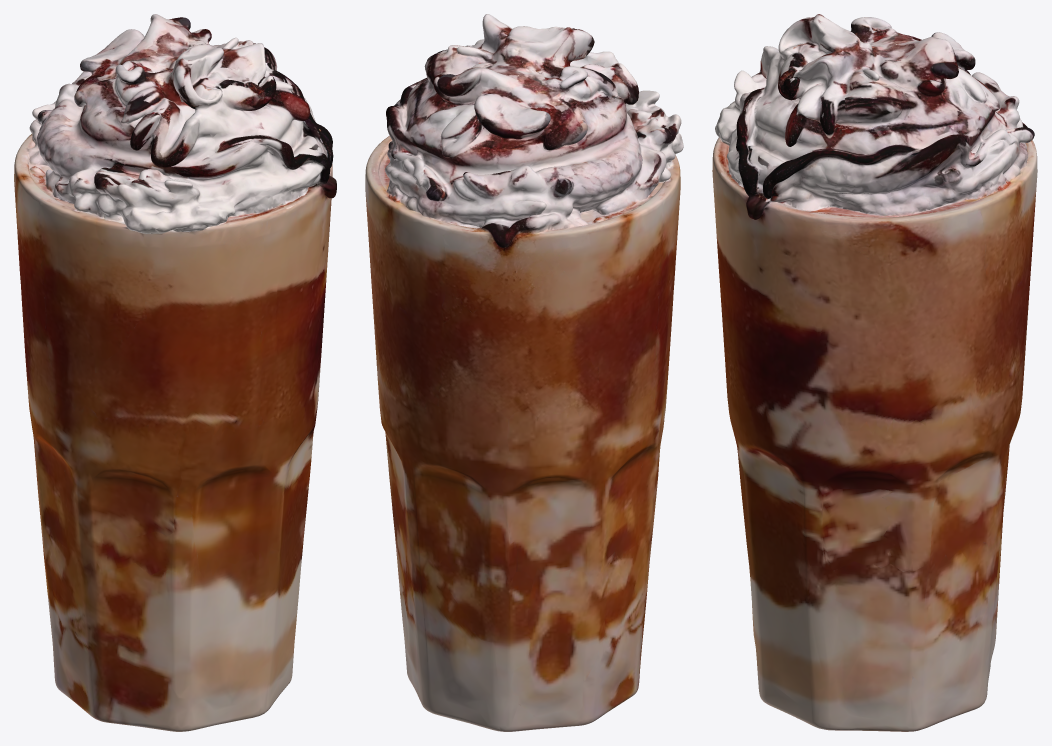
File: iced-mocha.glb
The picture shows the model from 3 angles, left to right: view 1: azimuth 30°, elevation 25°; view 2: azimuth 150°, elevation 25°; view 3: azimuth 270°, elevation 25°; orthographic projection. The views are drawn at different scales.
Size of the model in its own units: 0.8463 by 1.9 by 0.8468.
1 material, 1 textured.
